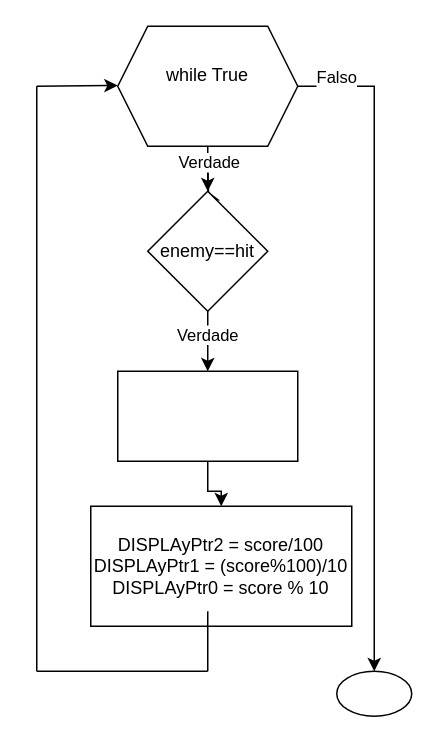
This 438x743 diagram has some shape labels left out. Each missing label, with the box of its shape:
Fim: (335, 670, 412, 716)
score++: (116, 370, 298, 461)
